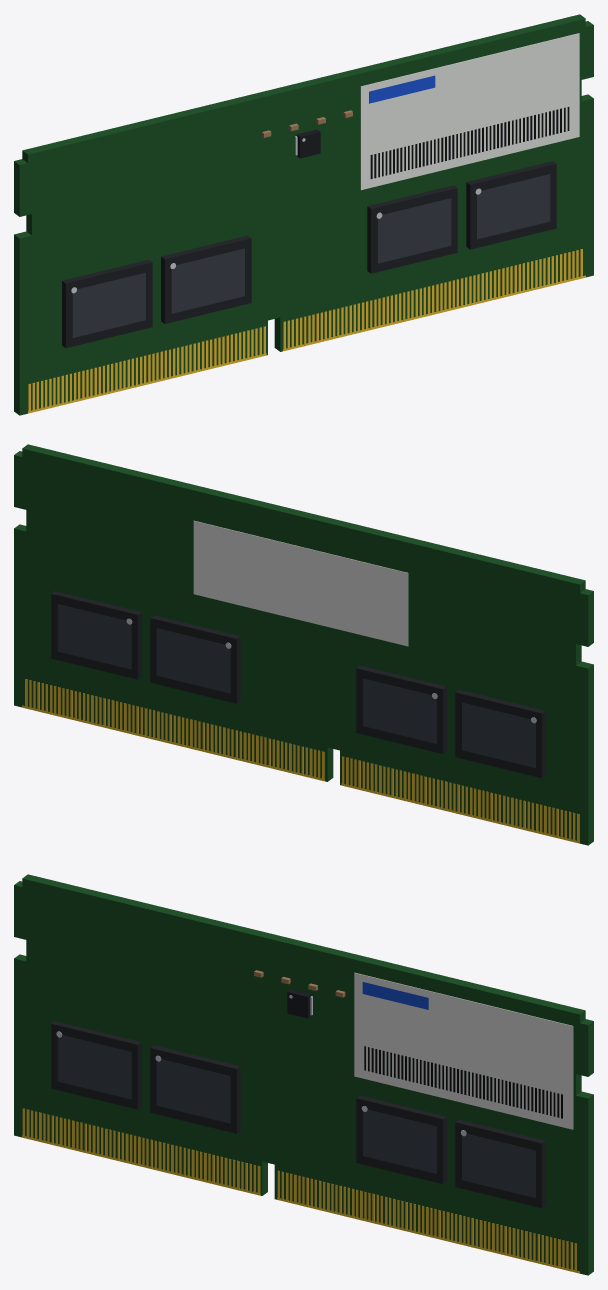
File: DDR4_16GB_SODIMM_LAPTOP.obj
The picture shows the model from 3 angles, top to bottom: view 1: azimuth 30°, elevation 25°; view 2: azimuth 150°, elevation 25°; view 3: azimuth 330°, elevation 25°; orthographic projection.
Size of the model in its own units: 69.6 by 30 by 3.15.
